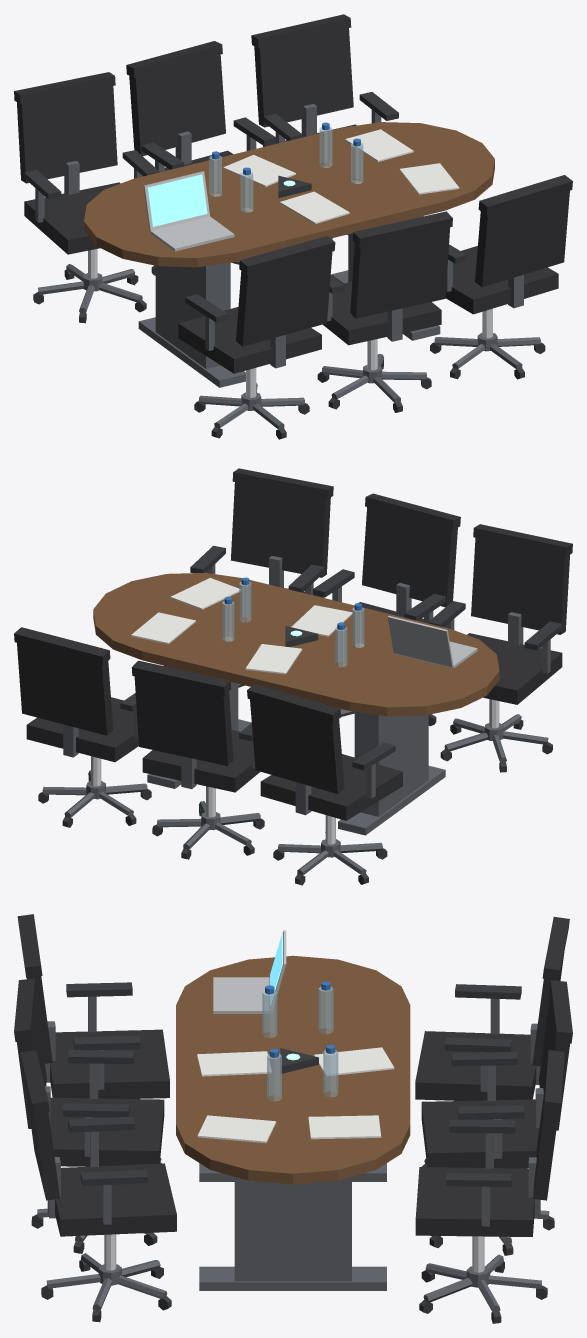
File: meeting_table.glb
The picture shows the model from 3 angles, top to bottom: view 1: azimuth 30°, elevation 25°; view 2: azimuth 150°, elevation 25°; view 3: azimuth 270°, elevation 25°; orthographic projection. The views are drawn at different scales.
Parts seen in each view (by area): view 1: meeting_table; view 2: meeting_table; view 3: meeting_table.
Part boxes in pixels (box(x1,y1,x2,y2)): meeting_table: box(14, 14, 572, 439); meeting_table: box(14, 468, 572, 885); meeting_table: box(14, 914, 572, 1323).
Bounding box in the file's own units: 2.2 × 1.05 × 2.38.
